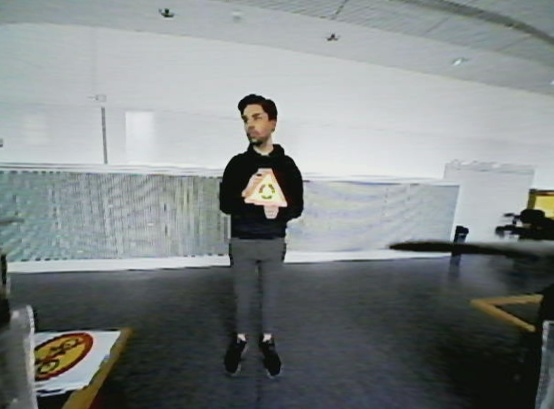roundabout_warning: (238, 161, 291, 209)
